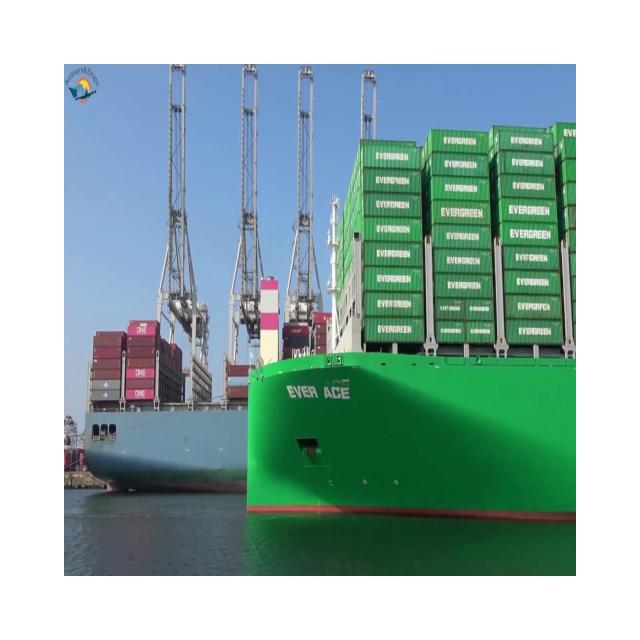OCR: (279, 373, 358, 410)
